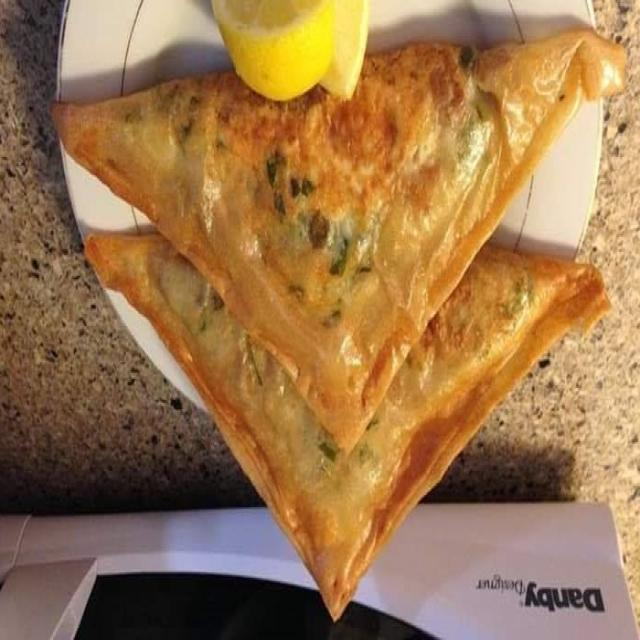brik: (81, 36, 598, 384), (120, 246, 565, 619)
